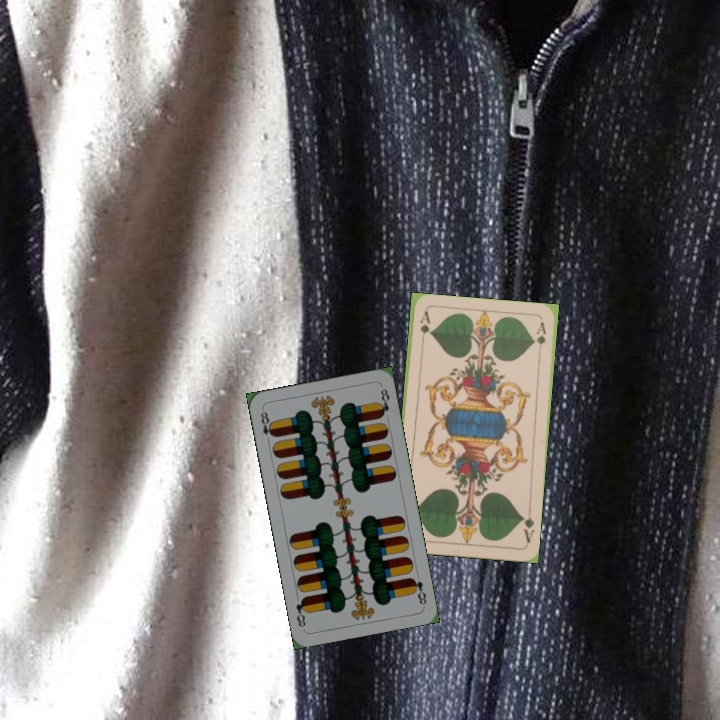E8: (257, 407, 277, 446), (407, 573, 429, 607)
GA: (517, 506, 537, 545), (415, 308, 432, 349)
